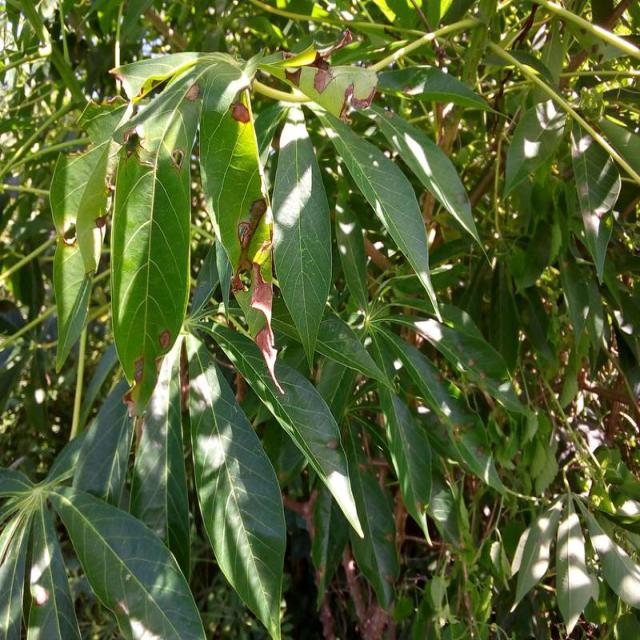cassava leaf: (186, 349, 286, 637), (270, 110, 332, 371)
